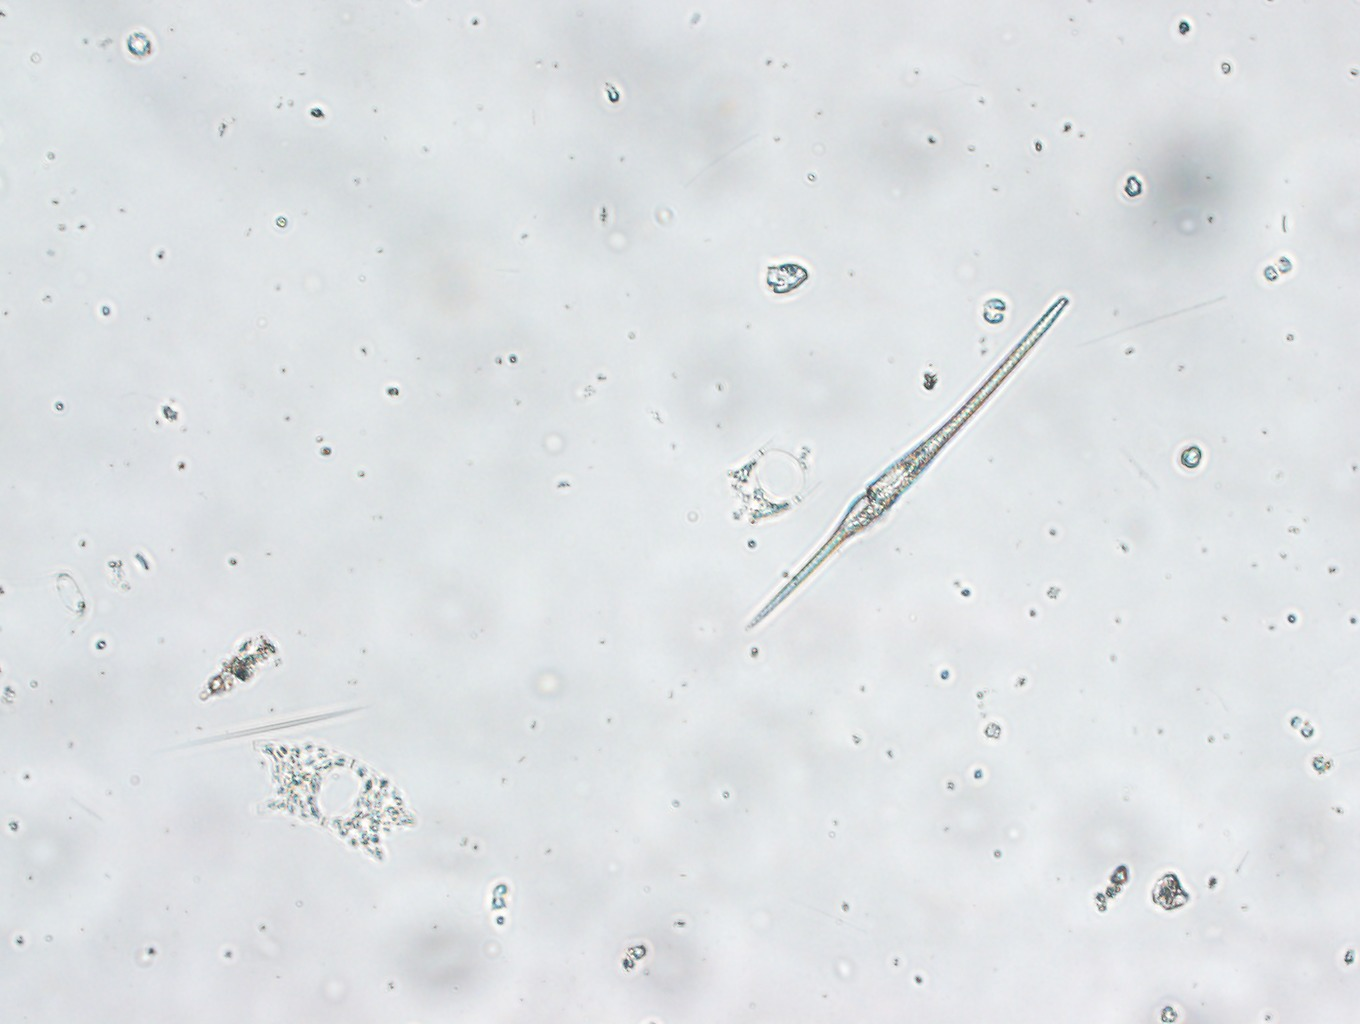ceratium fusus: (742, 291, 1080, 637)
